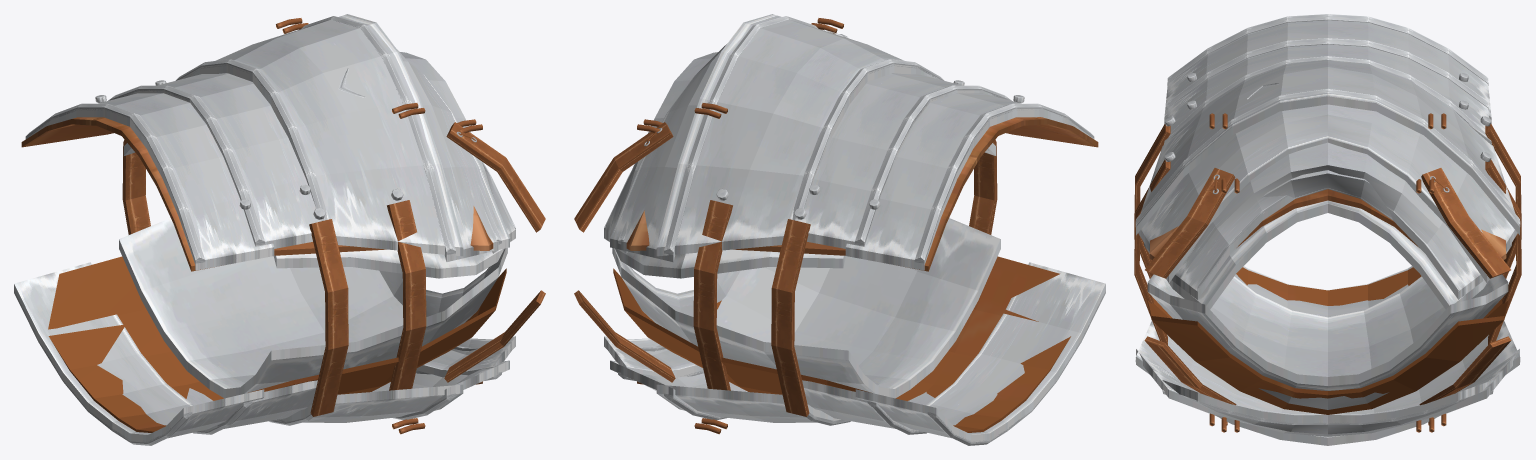
The model's file is Armor_Chest.fbx.
The picture shows the model from 3 angles, left to right: view 1: azimuth 30°, elevation 25°; view 2: azimuth 150°, elevation 25°; view 3: azimuth 270°, elevation 25°; orthographic projection. The views are drawn at different scales.
Visible parts, largest first — view 1: Hebios_inset_structural_back, Front_broad_forged_lamellar_course_0, Back_dark_leather_underlay, Articulated_belly_lame_0, Articulated_belly_lame_1, Articulated_back_lame_0, Front_broad_forged_lamellar_course_1, Broad_side_closure__1_0, Front_burgundy_leather_underlay, Broad_side_closure__1_1, Back_broad_forged_lamellar_course_0, Hebios_inset_structural_front (+12 smaller); view 2: Hebios_inset_structural_back, Front_broad_forged_lamellar_course_0, Articulated_back_lame_0, Back_dark_leather_underlay, Articulated_belly_lame_0, Articulated_belly_lame_1, Front_broad_forged_lamellar_course_1, Broad_side_closure_1_0, Front_burgundy_leather_underlay, Broad_side_closure_1_1, Back_broad_forged_lamellar_course_0, Hebios_inset_structural_front (+12 smaller); view 3: Hebios_inset_structural_back, Front_broad_forged_lamellar_course_1, Front_broad_forged_lamellar_course_0, Front_broad_forged_lamellar_course_2, Back_dark_leather_underlay, Back_broad_forged_lamellar_course_0, Articulated_belly_lame_0, Hebios_inset_structural_front, Articulated_belly_lame_1, Back_broad_forged_lamellar_course_2, Front_suspension_strap_1, Front_suspension_strap__1 (+15 smaller).
Boxes of the visible parts, <box> form: Hebios_inset_structural_back: <box>119,218,507,398</box>; Front_broad_forged_lamellar_course_0: <box>179,14,463,256</box>; Back_dark_leather_underlay: <box>48,256,506,432</box>; Articulated_belly_lame_0: <box>26,93,274,270</box>; Articulated_belly_lame_1: <box>124,73,330,248</box>; Articulated_back_lame_0: <box>14,262,264,442</box>; Front_broad_forged_lamellar_course_1: <box>397,49,509,261</box>; Broad_side_closure__1_0: <box>309,219,348,416</box>; Front_burgundy_leather_underlay: <box>21,117,493,271</box>; Broad_side_closure__1_1: <box>387,200,426,390</box>; Back_broad_forged_lamellar_course_0: <box>274,384,463,422</box>; Hebios_inset_structural_front: <box>123,143,504,278</box>; Hebios_inset_structural_back: <box>612,218,1000,398</box>; Front_broad_forged_lamellar_course_0: <box>656,14,940,256</box>; Articulated_back_lame_0: <box>855,262,1105,442</box>; Back_dark_leather_underlay: <box>613,256,1070,432</box>; Articulated_belly_lame_0: <box>845,93,1093,270</box>; Articulated_belly_lame_1: <box>789,73,996,248</box>; Front_broad_forged_lamellar_course_1: <box>610,44,726,261</box>; Broad_side_closure_1_0: <box>771,219,810,416</box>; Front_burgundy_leather_underlay: <box>626,117,1098,271</box>; Broad_side_closure_1_1: <box>693,200,732,390</box>; Back_broad_forged_lamellar_course_0: <box>656,384,840,422</box>; Hebios_inset_structural_front: <box>615,143,996,278</box>; Hebios_inset_structural_back: <box>1147,274,1508,409</box>; Front_broad_forged_lamellar_course_1: <box>1138,104,1517,282</box>; Front_broad_forged_lamellar_course_0: <box>1136,59,1519,235</box>; Front_broad_forged_lamellar_course_2: <box>1172,142,1483,299</box>; Back_dark_leather_underlay: <box>1147,267,1508,414</box>; Back_broad_forged_lamellar_course_0: <box>1136,321,1519,445</box>; Articulated_belly_lame_0: <box>1164,20,1491,123</box>; Hebios_inset_structural_front: <box>1144,200,1511,316</box>; Articulated_belly_lame_1: <box>1164,44,1491,144</box>; Back_broad_forged_lamellar_course_2: <box>1162,380,1493,434</box>; Front_suspension_strap_1: <box>1421,168,1510,278</box>; Front_suspension_strap__1: <box>1145,168,1235,278</box>.
Size of the model in its own units: 42.58 by 42.5 by 42.19.
Materials: 6 (6 with a texture image).
